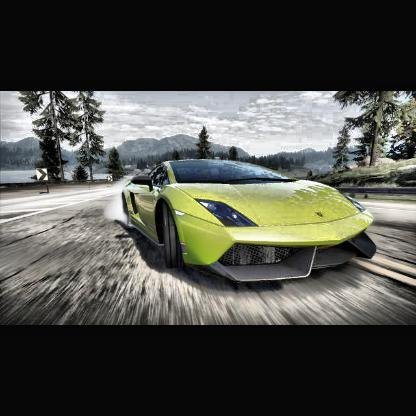Lamborghini Gallardo LP 570-4 Superleggera 2012: (123, 161, 378, 283)
